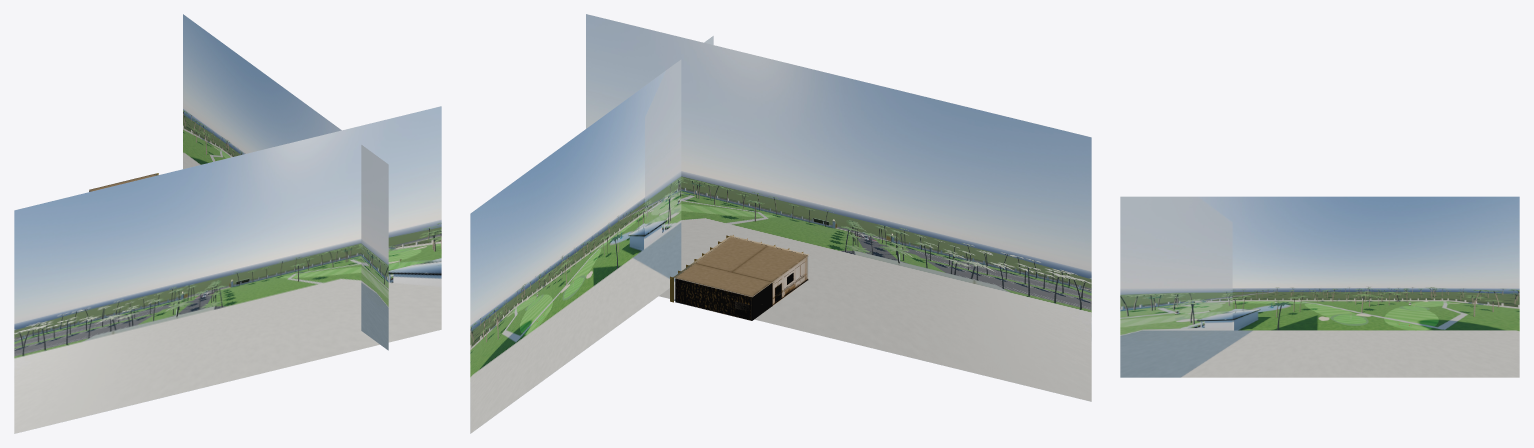
Rendered from int_eko_r10.glb.
3 renders of one model, left to right at view 1: azimuth 30°, elevation 25°; view 2: azimuth 150°, elevation 25°; view 3: azimuth 270°, elevation 25°, orthographic. The views are drawn at different scales.
Parts seen in each view (by area): view 1: VIEW_front, VIEW_side; view 2: VIEW_front, VIEW_side, ROOM; view 3: VIEW_side.
Boxes of the visible parts, x1,y1,x2,y2 form: VIEW_front: (14, 106, 441, 433); VIEW_side: (183, 14, 388, 350); VIEW_front: (586, 14, 1091, 401); VIEW_side: (470, 36, 713, 433); ROOM: (670, 235, 808, 320); VIEW_side: (1120, 196, 1519, 377).
Size of the model in its own units: 72 by 36 by 60.
4 materials, 3 textured.
